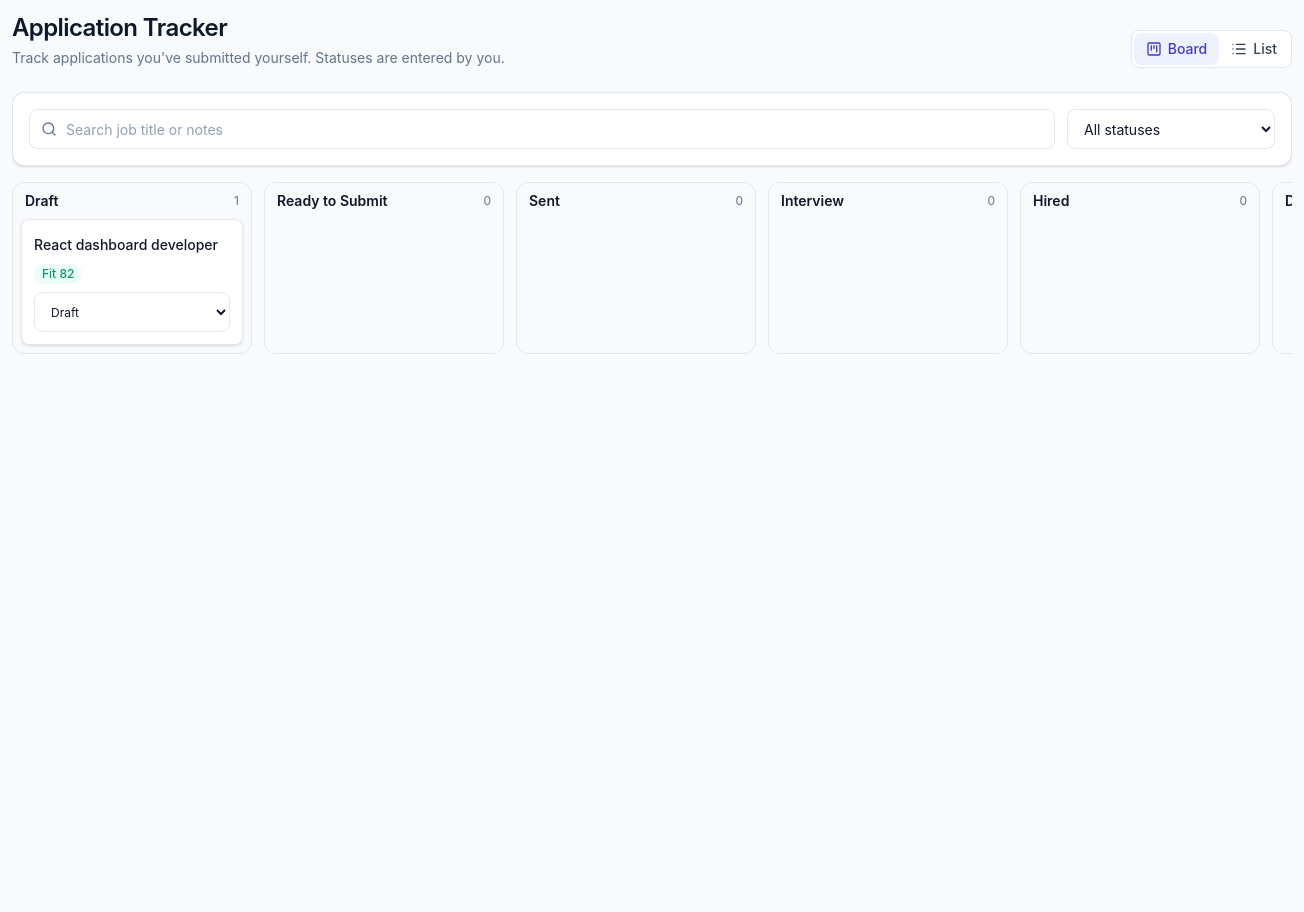
application tracker › updates a status from the board
Select "Sent" in the dropdown named "Move React dashboard developer to status" at (132, 312), box [34, 292, 230, 332]
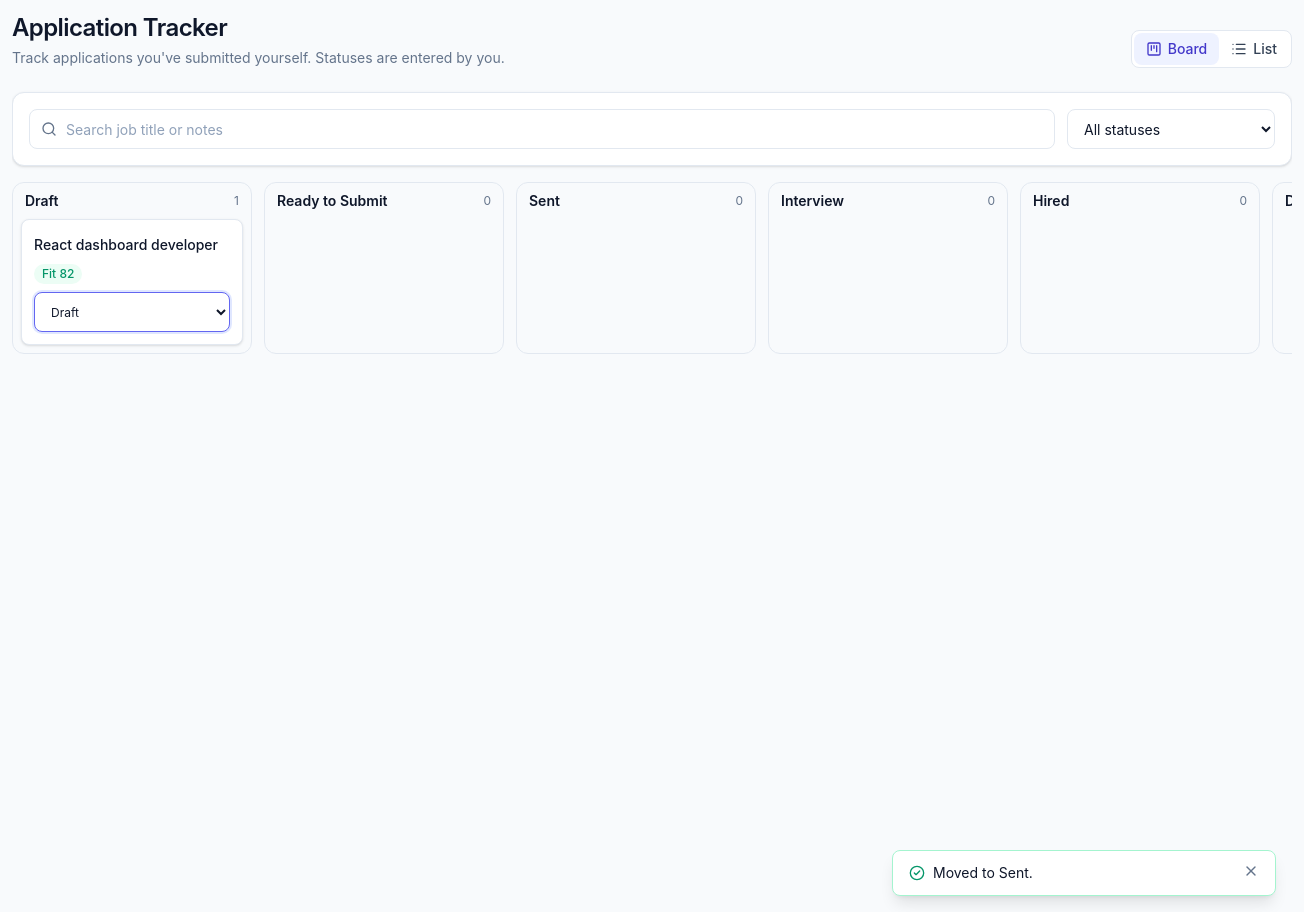
Check: the text "Moved to Sent." is shown, box [933, 864, 1033, 881]
